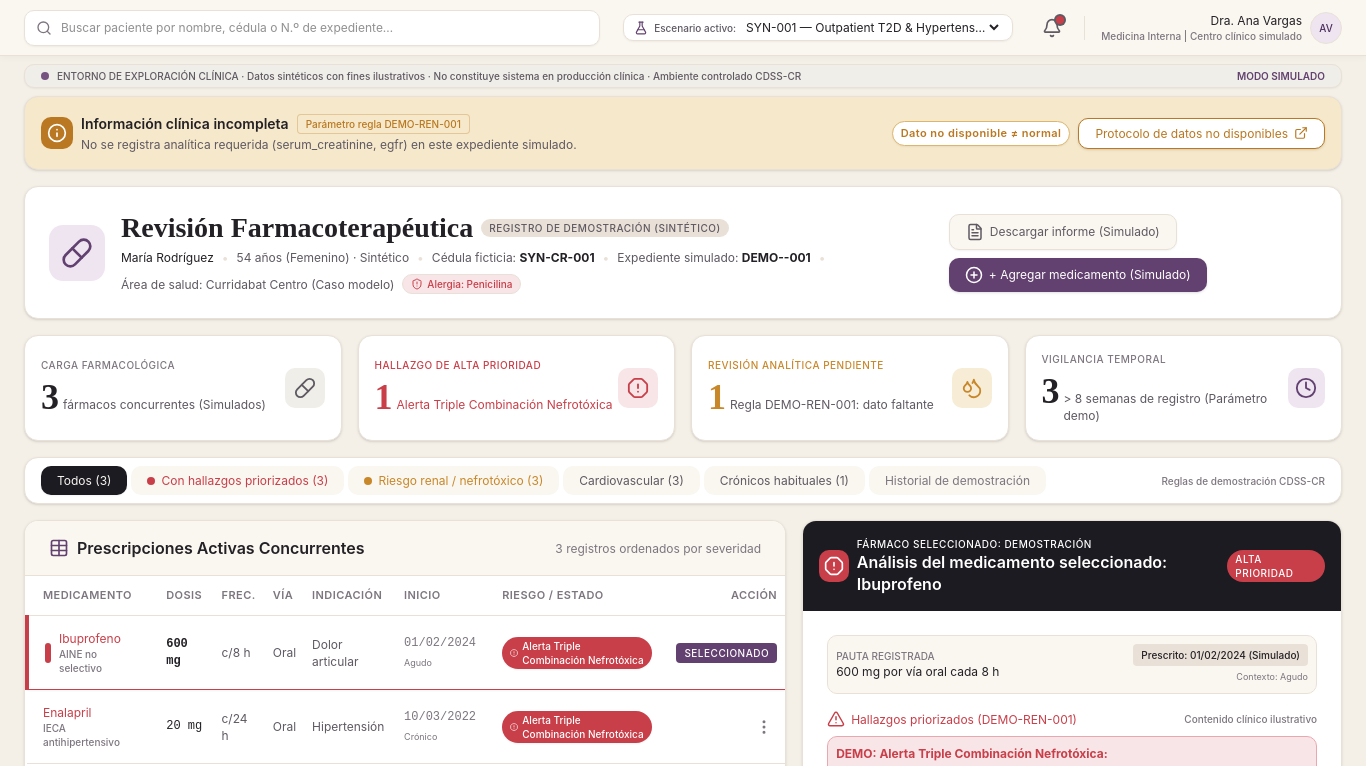
Test case: MedicationReview — SAMED Visual Baseline v1 › updates selected medication when clicking a table row
The width and height of the screenshot is (1366, 766).
expect the heading "Análisis del medicamento seleccionado: Ibuprofeno" is shown: met, box [857,552,1167,594]
Click Enalapril row
What coordinates should you click on to do the following:
click the button with aria-label "seleccionar medicamento enalapril"
I would click on:
 (406, 726)
Its box is [27,690,785,764].
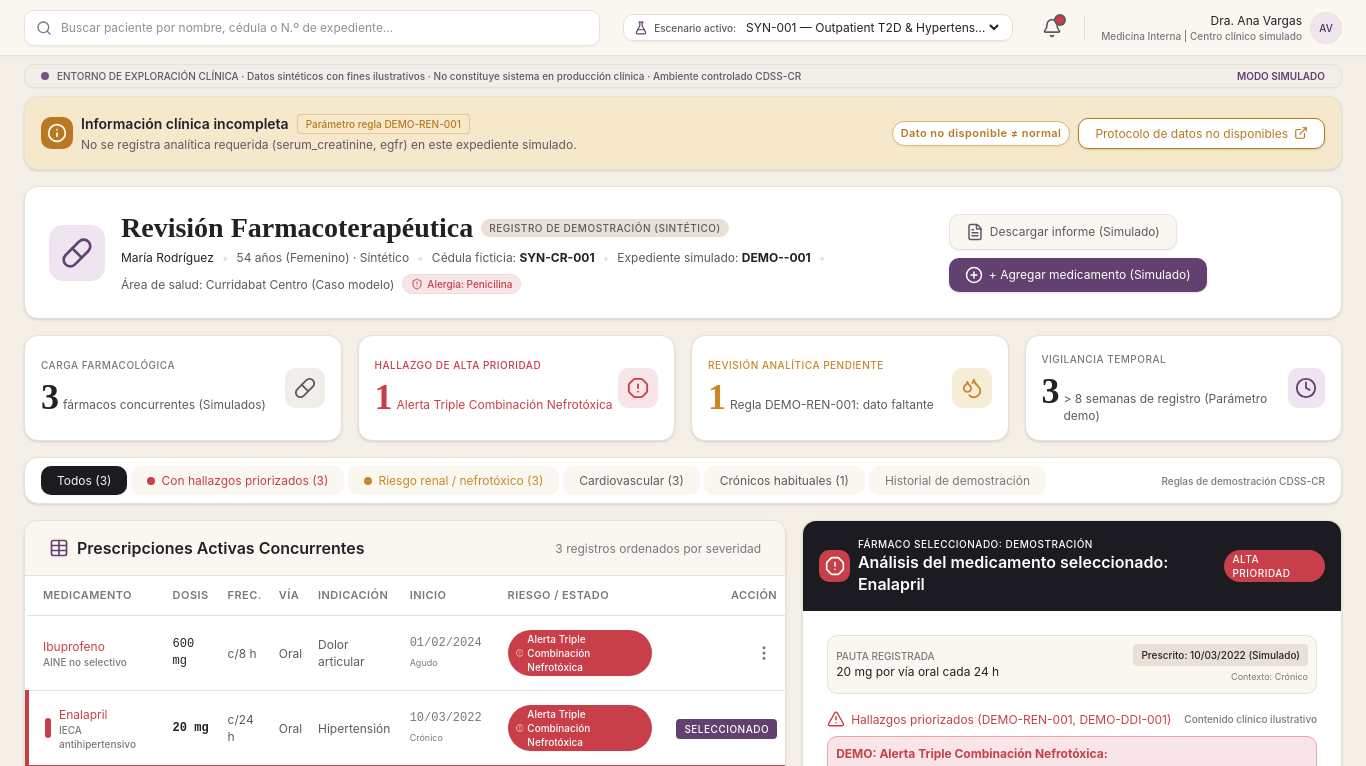
expect the heading "Análisis del medicamento seleccionado: Enalapril" is shown: met, box [858,552,1168,594]
